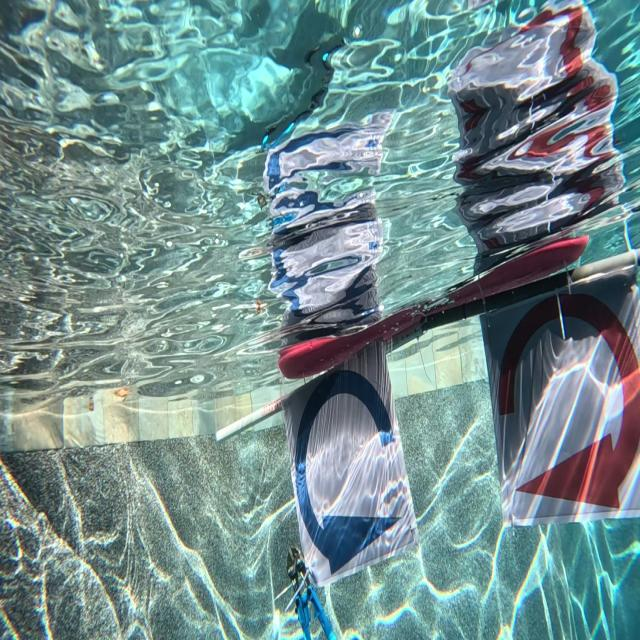blue_side: (279, 342, 425, 580)
red_side: (472, 277, 640, 527)
